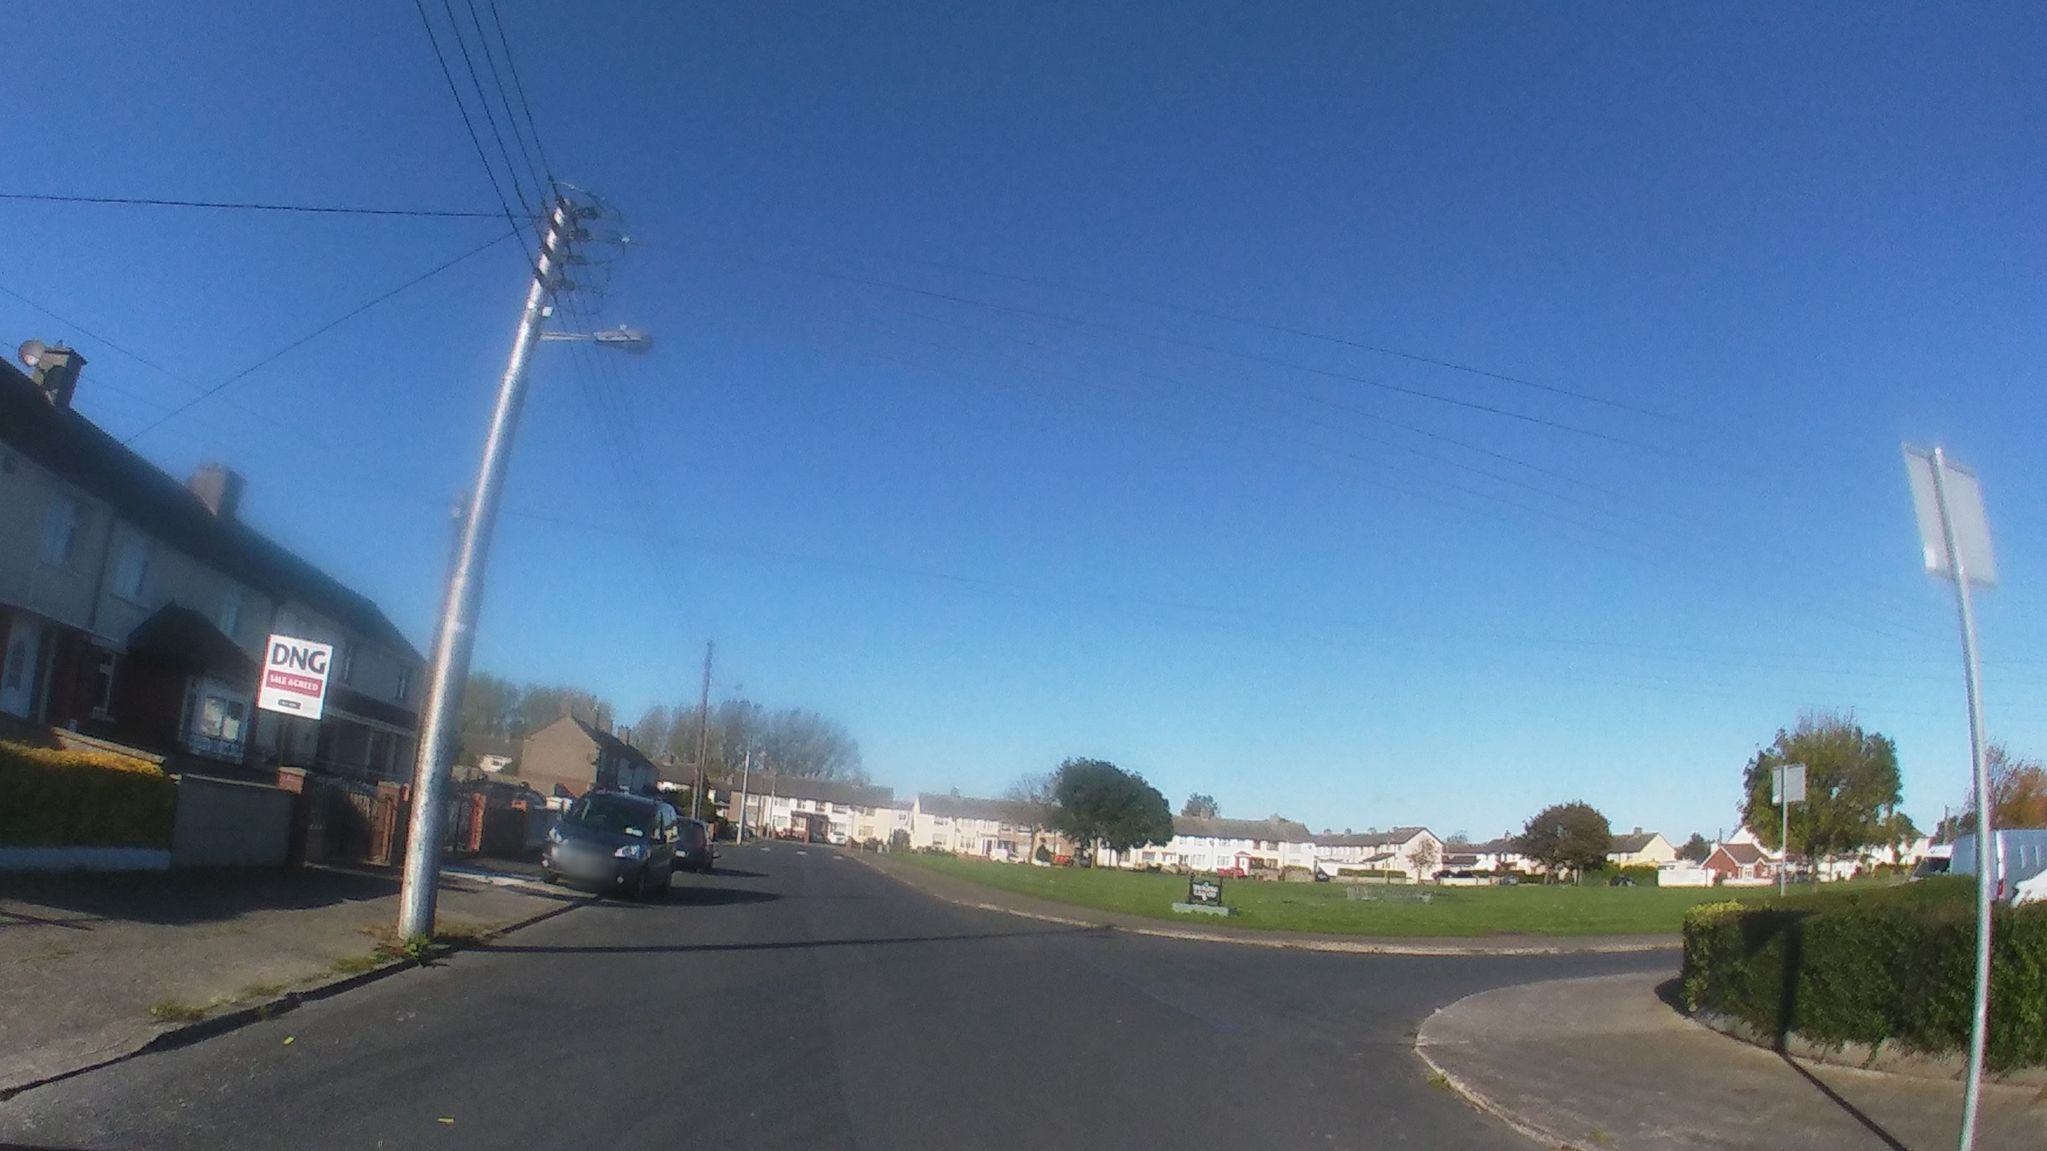property sign: (252, 625, 342, 729)
